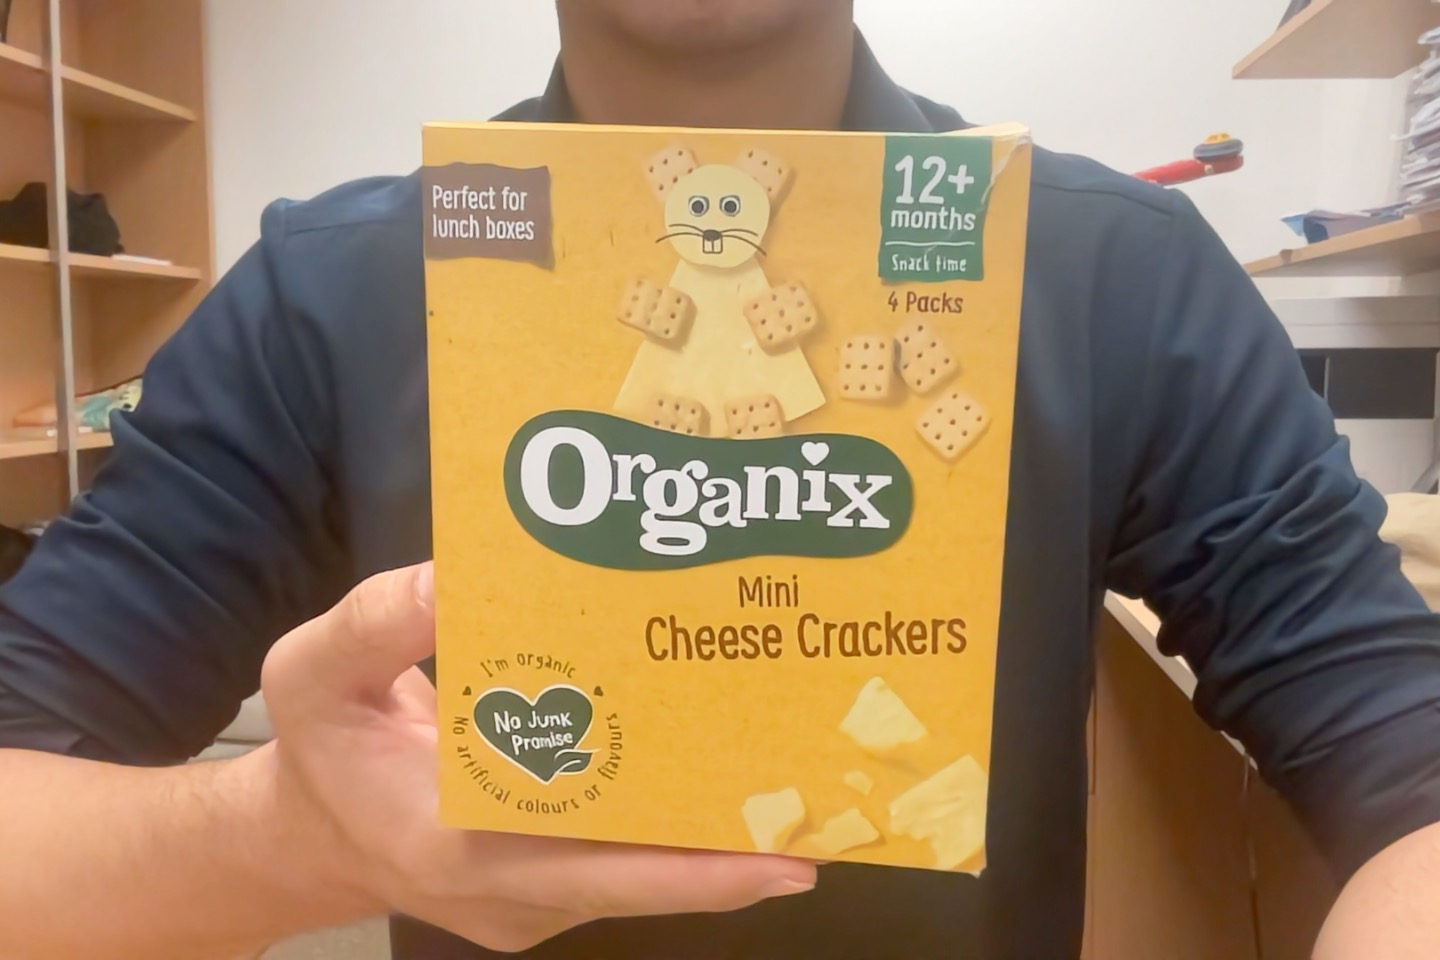Crackers_1-99g_NonHalal_NonHealthy: (448, 156, 982, 807)
